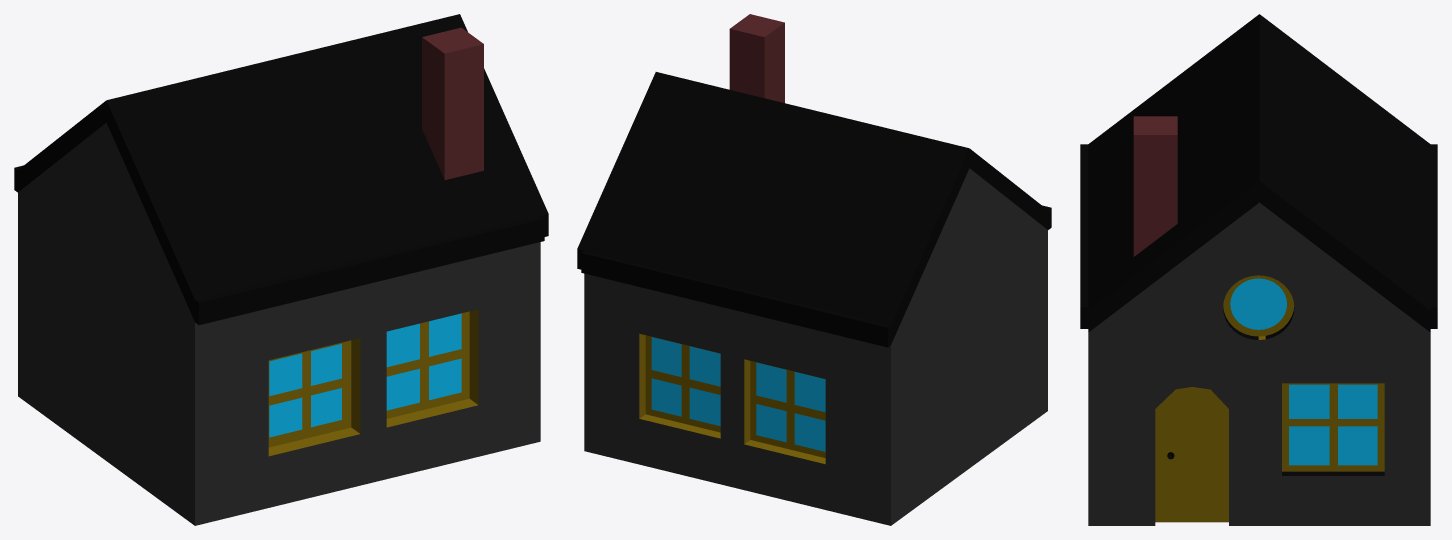
Rendered from Black House 10.fbx.
The picture shows the model from 3 angles, left to right: view 1: azimuth 30°, elevation 25°; view 2: azimuth 150°, elevation 25°; view 3: azimuth 270°, elevation 25°; orthographic projection. The views are drawn at different scales.
Parts seen in each view (by area): view 1: Cube, Cube.002; view 2: Cube, Cube.002; view 3: Cube, Cube.002.
Boxes of the visible parts, box(x1,y1,x2,y2) form: Cube: box(14, 14, 548, 525); Cube.002: box(422, 27, 483, 179); Cube: box(577, 72, 1051, 525); Cube.002: box(729, 14, 784, 102); Cube: box(1080, 14, 1437, 525); Cube.002: box(1133, 116, 1177, 256).
Bounding box in the file's own units: 258 × 271 × 234.
